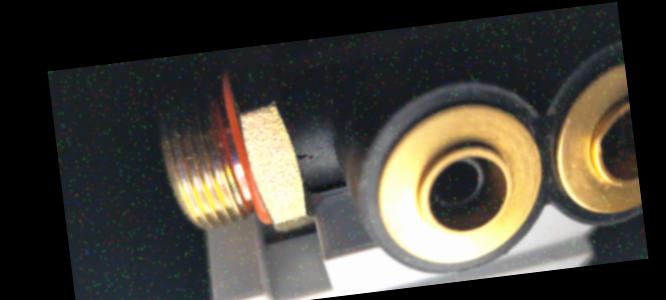craze: (295, 150, 321, 163)
joint line: (320, 140, 335, 151)
